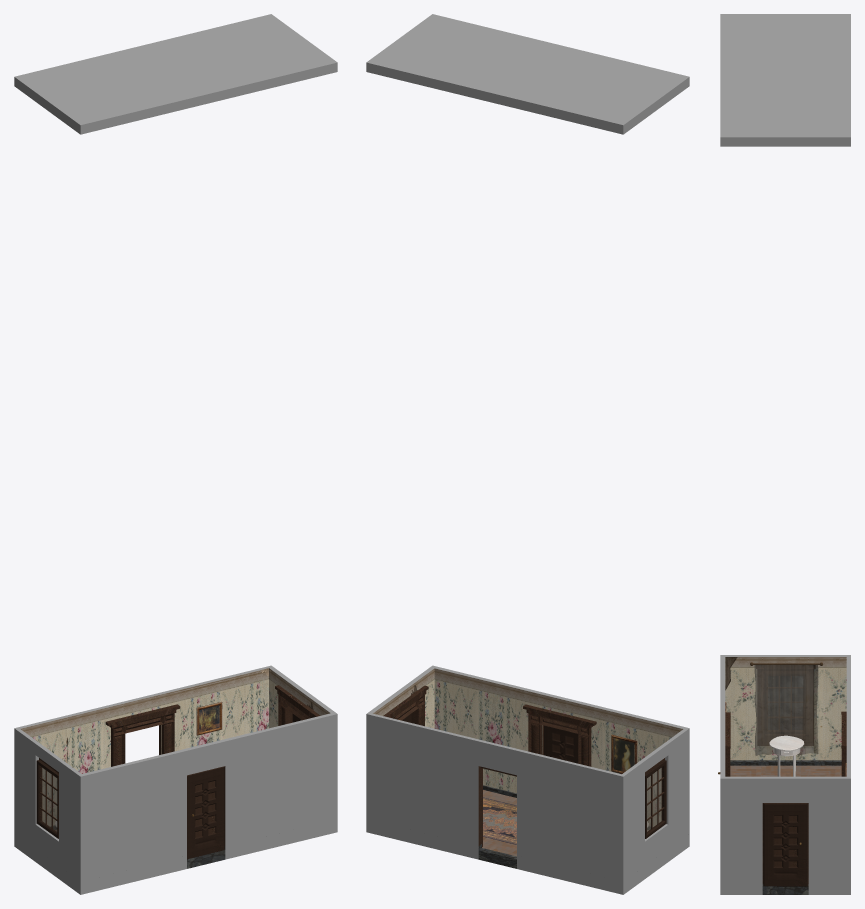
The model's file is First_floor_short_hallway.fbx.
3 renders of one model, left to right at view 1: azimuth 30°, elevation 25°; view 2: azimuth 150°, elevation 25°; view 3: azimuth 270°, elevation 25°, orthographic.
Visible parts, largest first — view 1: walls, ceiling, floor, pCube38, door_frame, third_door_frame, deers_paintin:pCube1, pCube26, curtains:pPlane1; view 2: walls, ceiling, floor, second_door_frame, pPlane3, pCube39, woman_with_skeleton_painting:pCube1, third_door_frame, curtains:pPlane1, pCube26; view 3: walls, ceiling, curtains:pPlane1, pCube39, floor, pCube32, pPlane2, pCube26, desk, second_door_frame, door_frame.
Boxes of the visible parts, x1=… form: walls: x1=14, y1=665, x2=337, y2=881; ceiling: x1=14, y1=14, x2=337, y2=134; floor: x1=14, y1=819, x2=337, y2=894; pCube38: x1=187, y1=766, x2=224, y2=859; door_frame: x1=105, y1=704, x2=180, y2=766; third_door_frame: x1=275, y1=685, x2=320, y2=725; deers_paintin:pCube1: x1=196, y1=701, x2=222, y2=735; pCube26: x1=36, y1=760, x2=58, y2=838; curtains:pPlane1: x1=42, y1=768, x2=57, y2=831; walls: x1=366, y1=665, x2=689, y2=881; ceiling: x1=366, y1=14, x2=689, y2=134; floor: x1=366, y1=785, x2=689, y2=894; second_door_frame: x1=523, y1=704, x2=596, y2=766; pPlane3: x1=483, y1=797, x2=516, y2=844; pCube39: x1=544, y1=725, x2=578, y2=763; woman_with_skeleton_painting:pCube1: x1=611, y1=734, x2=637, y2=773; third_door_frame: x1=383, y1=685, x2=428, y2=726; curtains:pPlane1: x1=647, y1=768, x2=661, y2=831; pCube26: x1=645, y1=760, x2=666, y2=838; walls: x1=720, y1=655, x2=850, y2=881; ceiling: x1=720, y1=14, x2=850, y2=146; curtains:pPlane1: x1=754, y1=665, x2=818, y2=755; pCube39: x1=763, y1=803, x2=808, y2=886; floor: x1=720, y1=760, x2=850, y2=894; pCube32: x1=756, y1=665, x2=815, y2=745; pPlane2: x1=768, y1=676, x2=802, y2=729; pCube26: x1=765, y1=674, x2=806, y2=733; desk: x1=769, y1=735, x2=804, y2=750; second_door_frame: x1=725, y1=712, x2=730, y2=776; door_frame: x1=841, y1=711, x2=846, y2=776.
Bounding box in the file's own units: 61.78 × 175 × 27.77.
